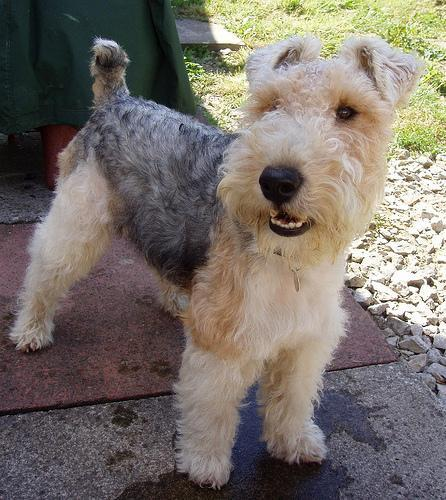wire-haired_fox_terrier: (8, 36, 428, 487)
